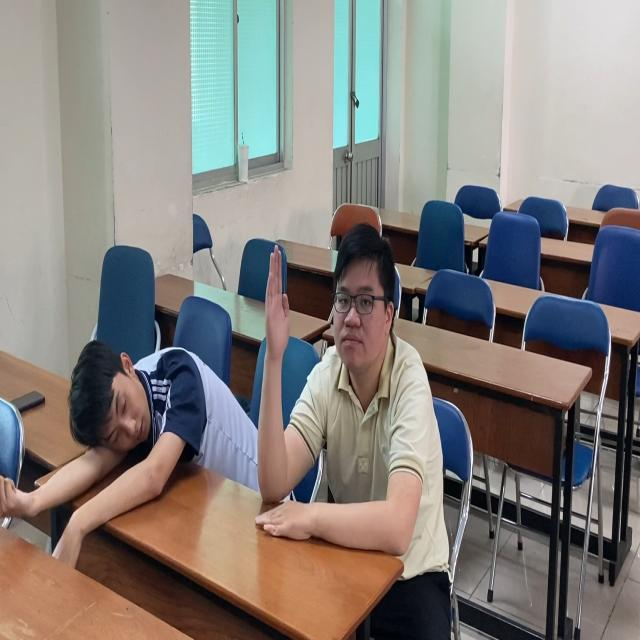raise_hand: (266, 218, 428, 554)
sleep: (68, 317, 249, 522)
